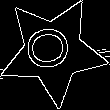O_E: (26, 27, 80, 75)
